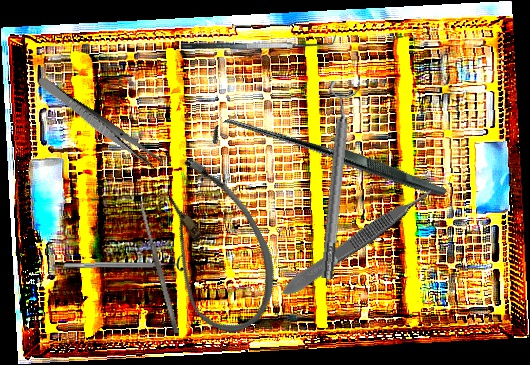Cannula: (129, 145, 298, 346)
Dressing Forceps: (34, 74, 165, 173)
Fixation Ring: (308, 80, 363, 281), (63, 253, 185, 275)
Hook Surgical: (206, 40, 448, 284)
Spatula Surgical: (138, 202, 180, 335), (180, 29, 337, 53)
Tissue Forceps: (277, 183, 440, 301)
